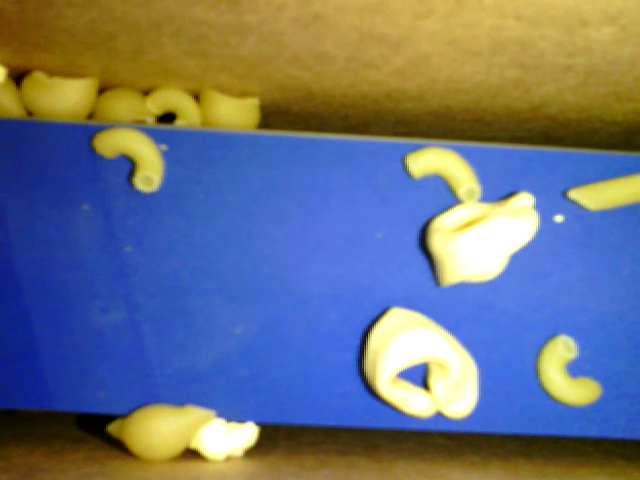elbow: (94, 126, 164, 193), (401, 145, 482, 202), (536, 334, 600, 406), (146, 85, 202, 128)
penne: (562, 170, 639, 212)
shell: (107, 402, 217, 463), (21, 71, 96, 119), (197, 87, 261, 131), (93, 89, 158, 125)
tortellini: (360, 309, 481, 421), (425, 190, 541, 290)
